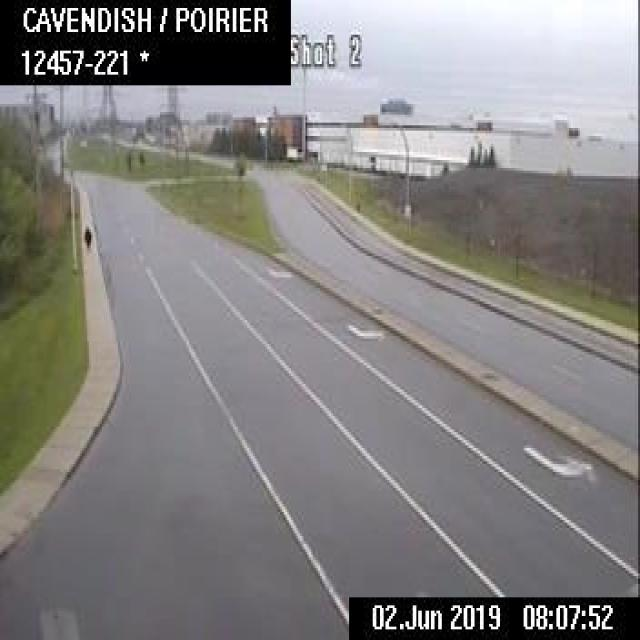pedestrian: (82, 221, 93, 256)
